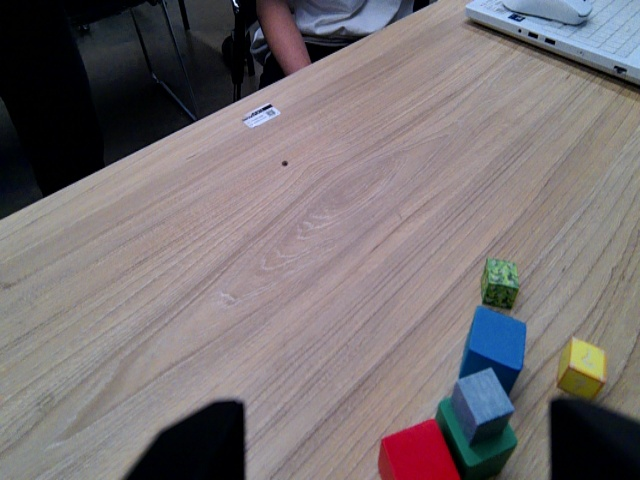grass: (482, 255, 520, 309)
lucky: (563, 333, 607, 400)
stone: (460, 362, 512, 443)
